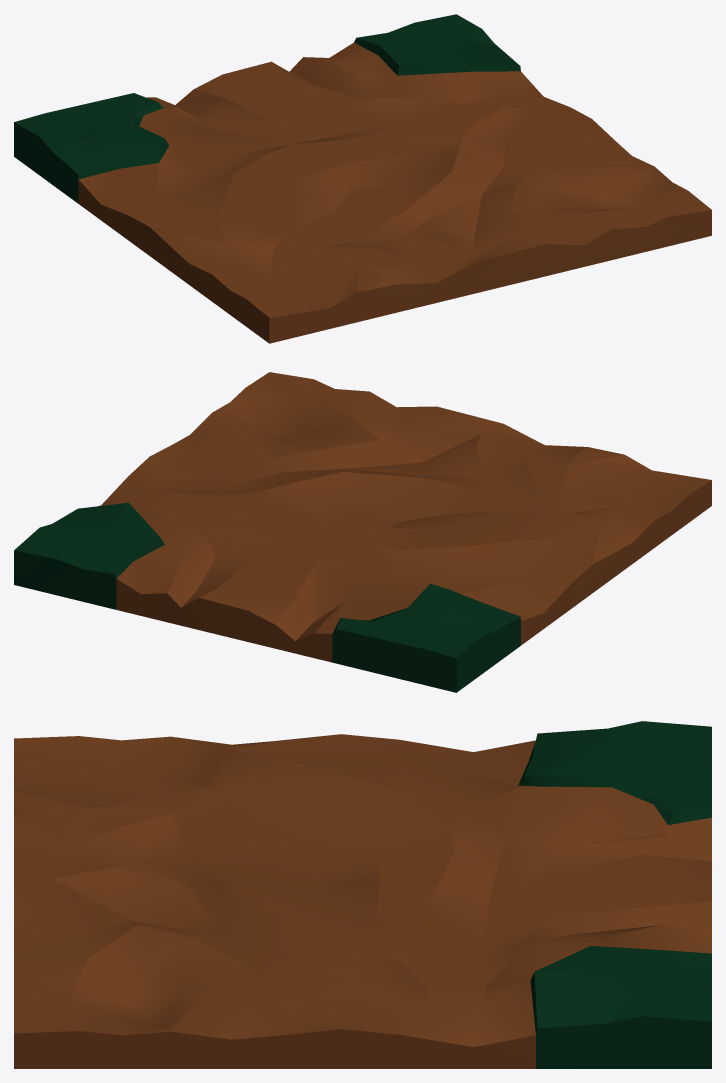
Rendered from Ground_Road_Entrance_U_1.fbx.
3 renders of one model, top to bottom at view 1: azimuth 30°, elevation 25°; view 2: azimuth 150°, elevation 25°; view 3: azimuth 270°, elevation 25°, orthographic. The views are drawn at different scales.
Parts seen in each view (by area): view 1: Ground_Road_Entrance_U_1; view 2: Ground_Road_Entrance_U_1; view 3: Ground_Road_Entrance_U_1.
Boxes of the visible parts, left/top/right/bottom form: Ground_Road_Entrance_U_1: left=14, top=14, right=711, bottom=343; Ground_Road_Entrance_U_1: left=14, top=372, right=711, bottom=692; Ground_Road_Entrance_U_1: left=14, top=721, right=711, bottom=1068.
Bounding box in the file's own units: 147 × 14.83 × 147.
